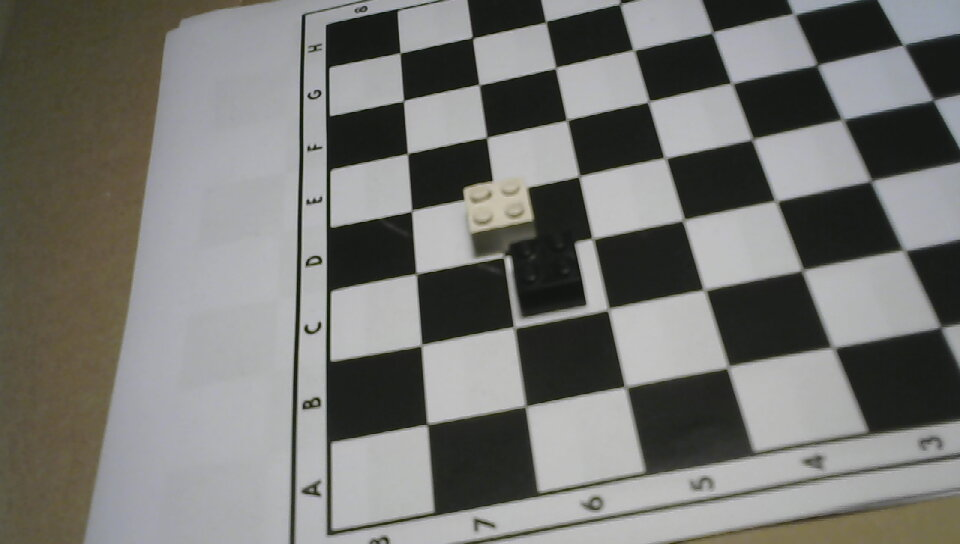bp: (500, 228, 592, 321)
